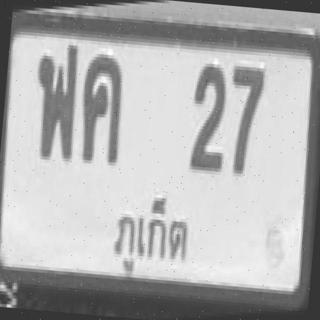A04: (74, 39, 130, 180)
A31: (23, 33, 86, 172)
N02: (181, 53, 234, 182)
N07: (220, 52, 272, 197)
P48: (99, 188, 205, 282)
